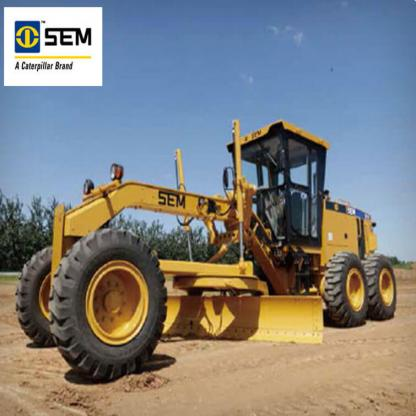bull_dozer/loader/grader: (15, 110, 415, 375)
